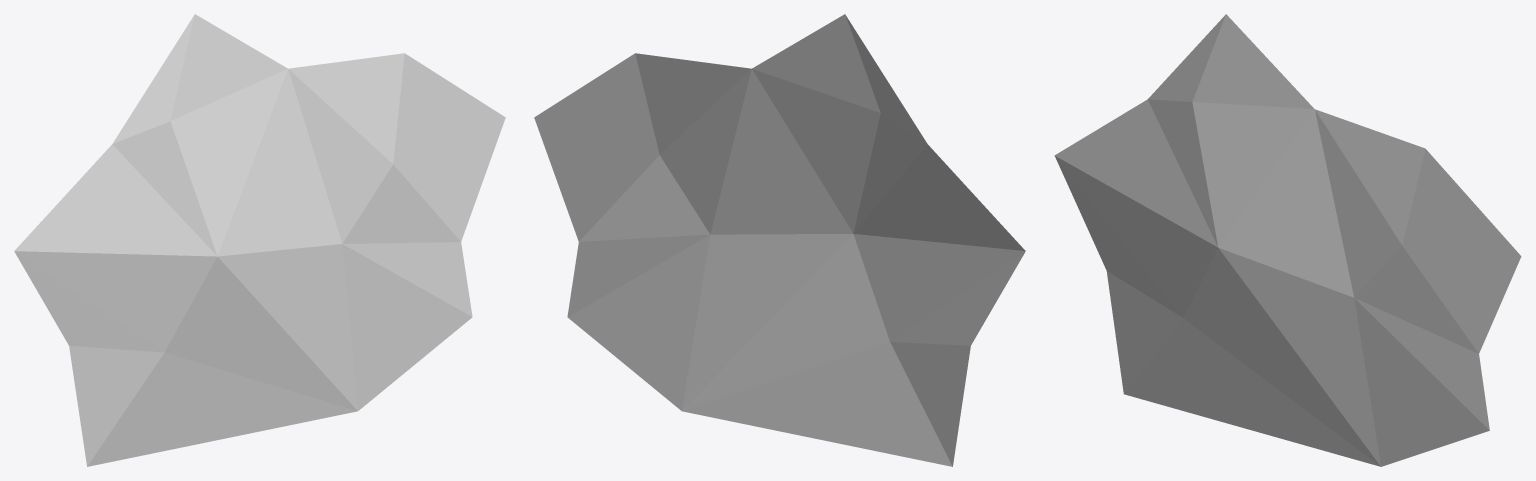
File: SM_Env_Ivy_02.glb
3 renders of one model, left to right at view 1: azimuth 30°, elevation 25°; view 2: azimuth 150°, elevation 25°; view 3: azimuth 330°, elevation 25°, orthographic. The views are drawn at different scales.
Visible parts, largest first — view 1: SM_Env_Ivy_02; view 2: SM_Env_Ivy_02; view 3: SM_Env_Ivy_02.
Part boxes in pixels (x1=…): SM_Env_Ivy_02: x1=14, y1=14, x2=505, y2=466; SM_Env_Ivy_02: x1=534, y1=14, x2=1025, y2=466; SM_Env_Ivy_02: x1=1054, y1=14, x2=1521, y2=466.
Bounding box in the file's own units: 2.03 × 1.72 × 0.1107.
Materials: 1 (1 with a texture image).
